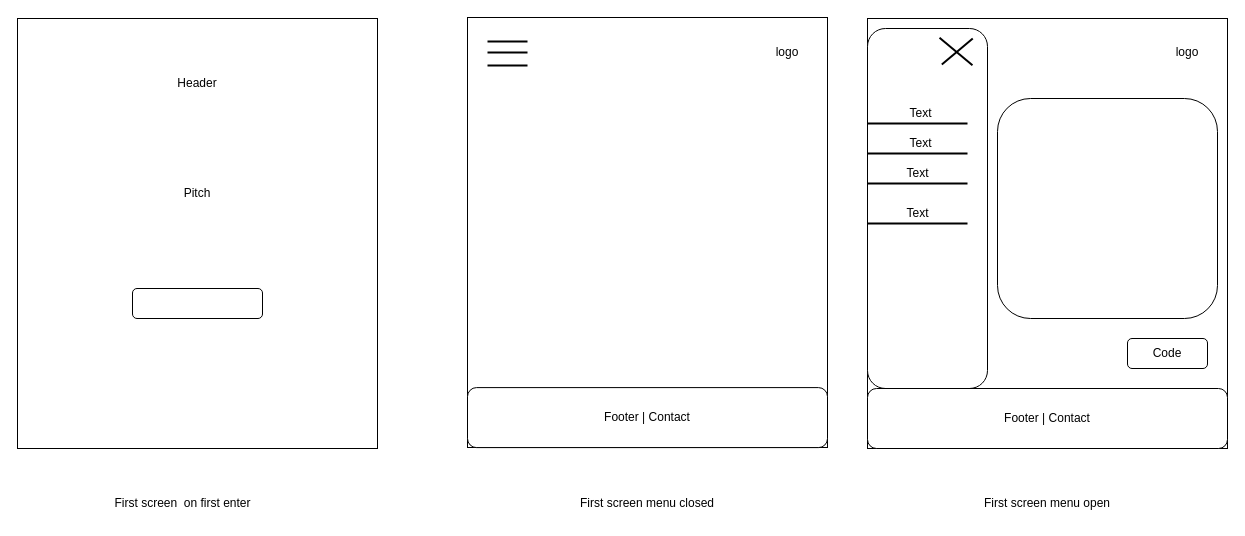
This 1245x536 diagram has some shape labels left out. Each missing label, with the centre of its shape:
"Frame" goes at [1107,208].
"Start" goes at [197,303].
